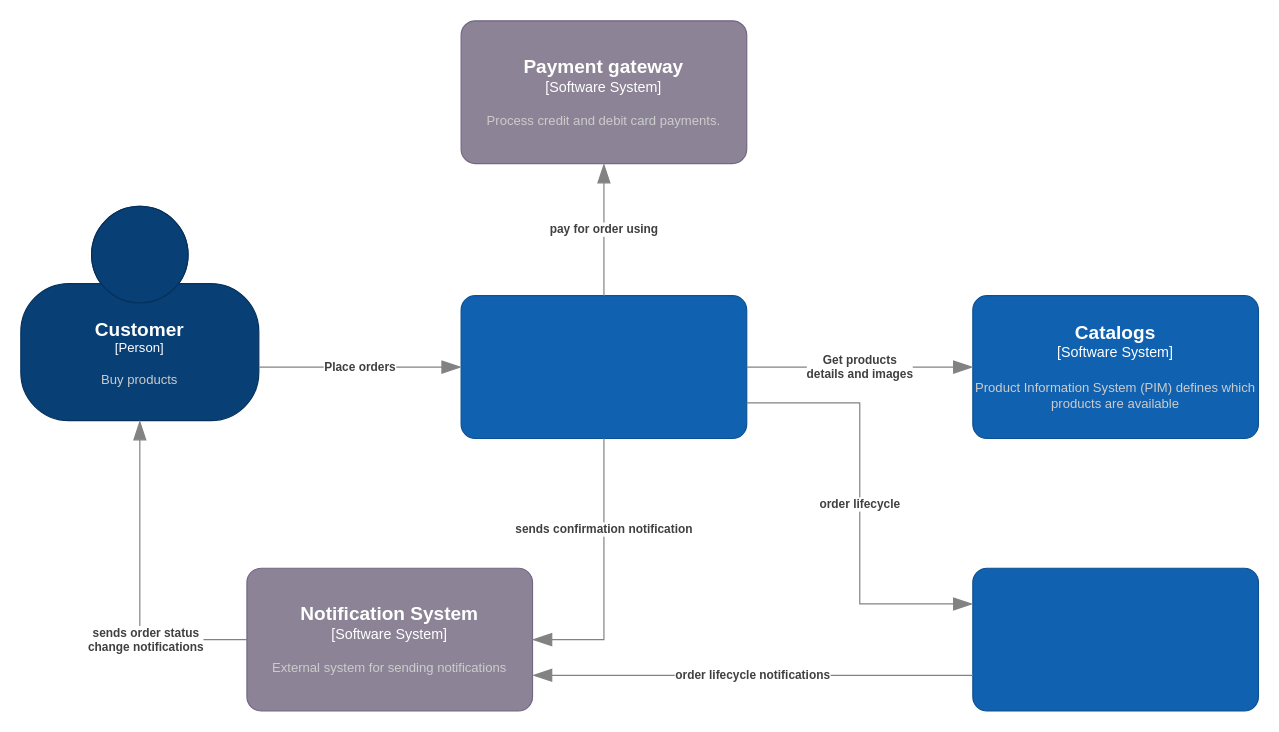
Some shapes in this 1279 by 732 pixel diagram are drawn without their labels. Each missing label, with the centre of its shape:
"eCommerce [Software System] eCommerce platform" goes at point 603,367.
"Order Management System [Software System] Order lifecycle and stock levels" goes at point 1115,639.
